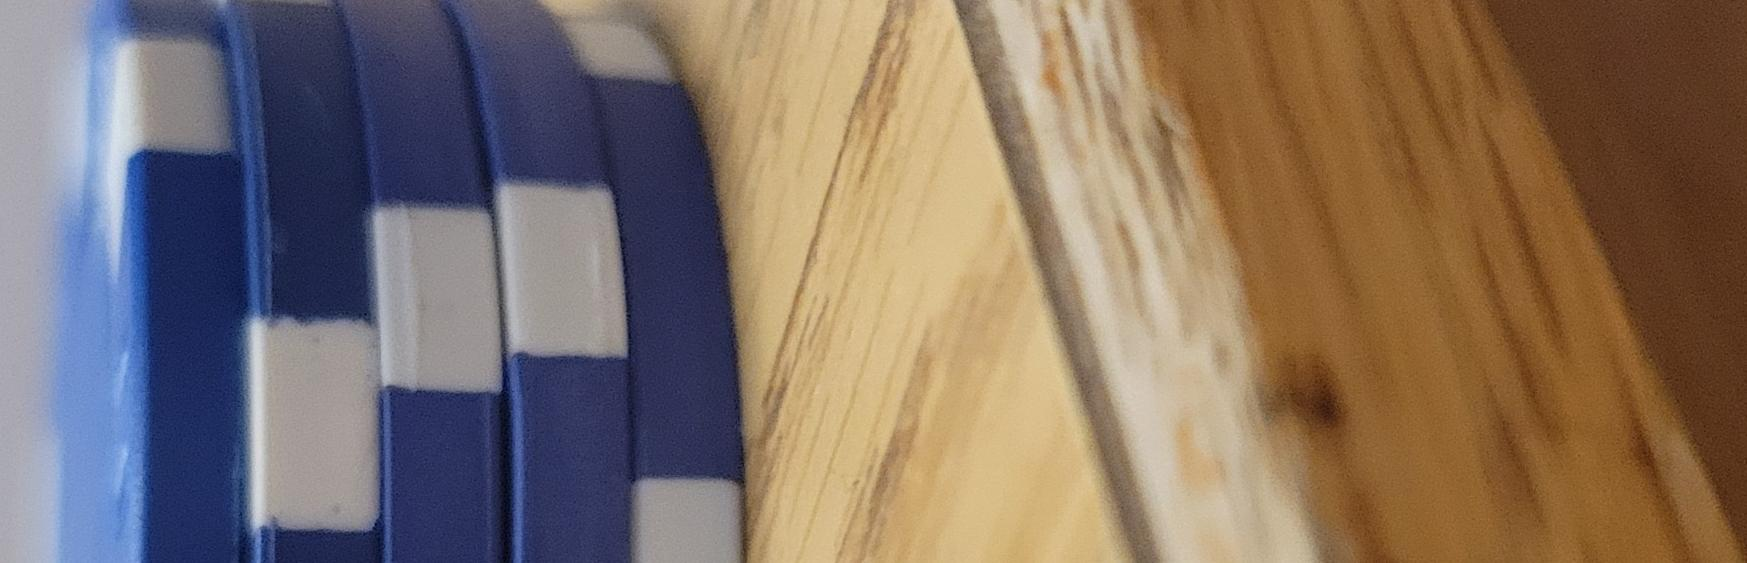Chip: (1, 299, 1018, 563)
